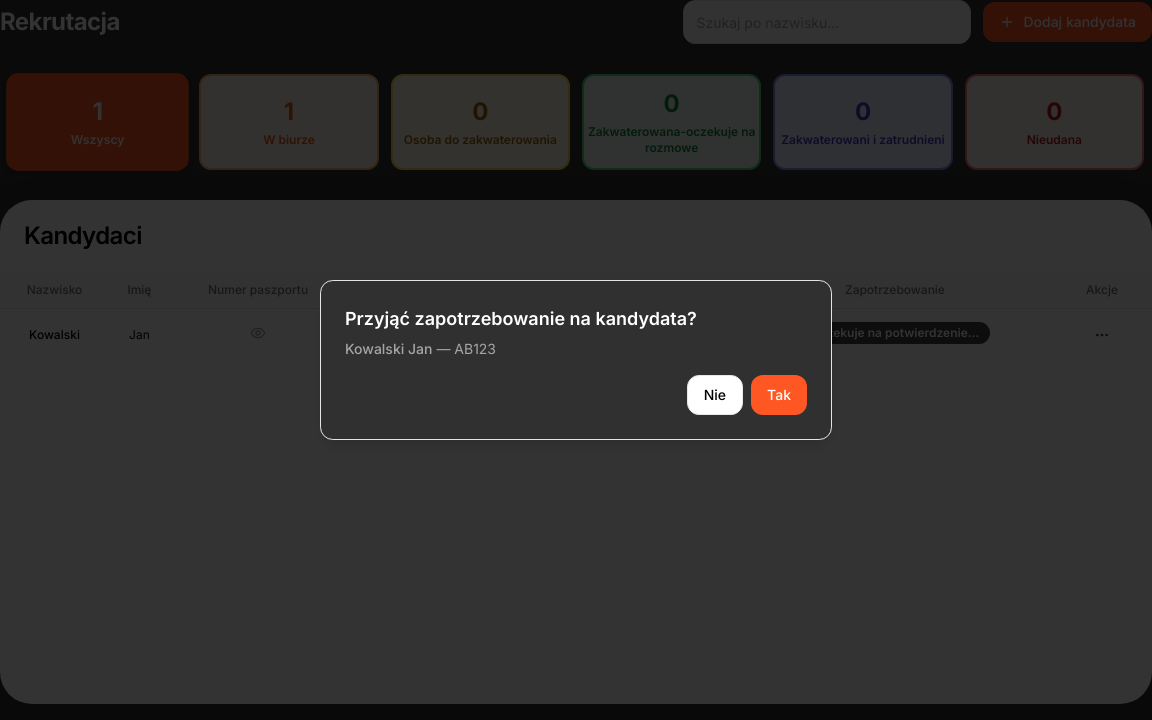
Test: RecruitmentView › "are you sure" -> No returns to confirmation dialog
This screenshot has width=1152, height=720.
Expected: the heading "Przyjąć zapotrzebowanie na kandydata?" is shown, [345, 308, 697, 329]
Click the button "Nie".
click(715, 395)  # box [687, 375, 743, 415]
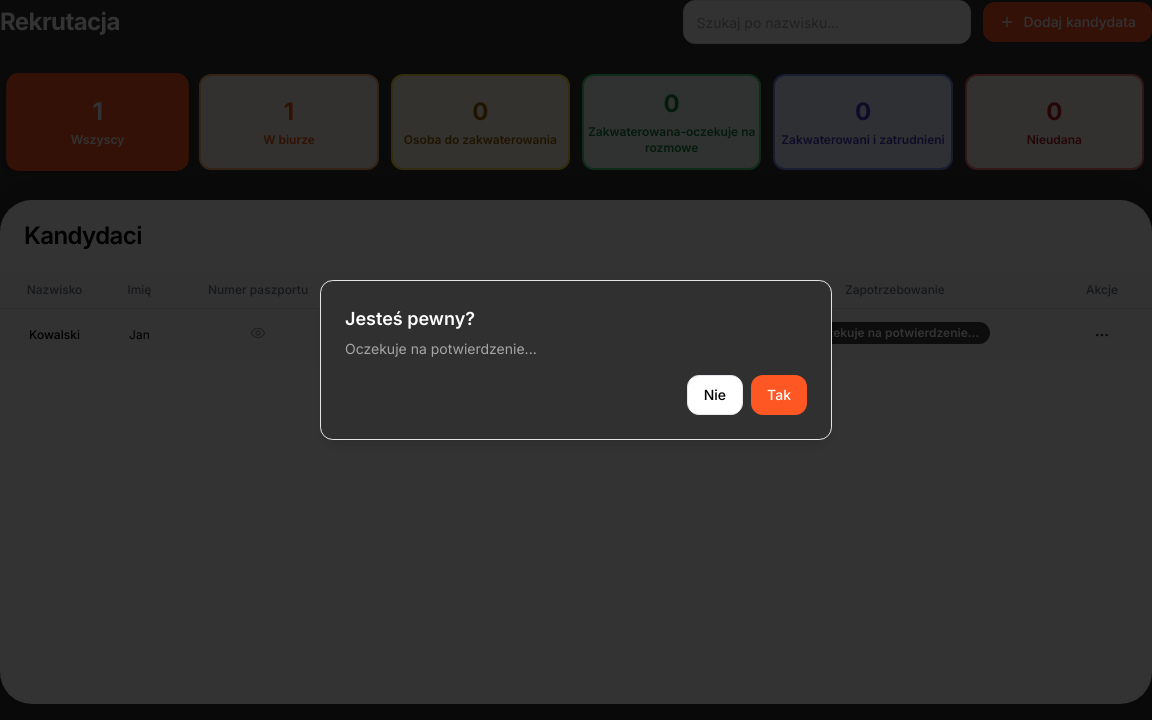
Now the heading "Jesteś pewny?" is shown, box [345, 308, 475, 329]
Click the button "Nie".
click(715, 395)  # box [687, 375, 743, 415]
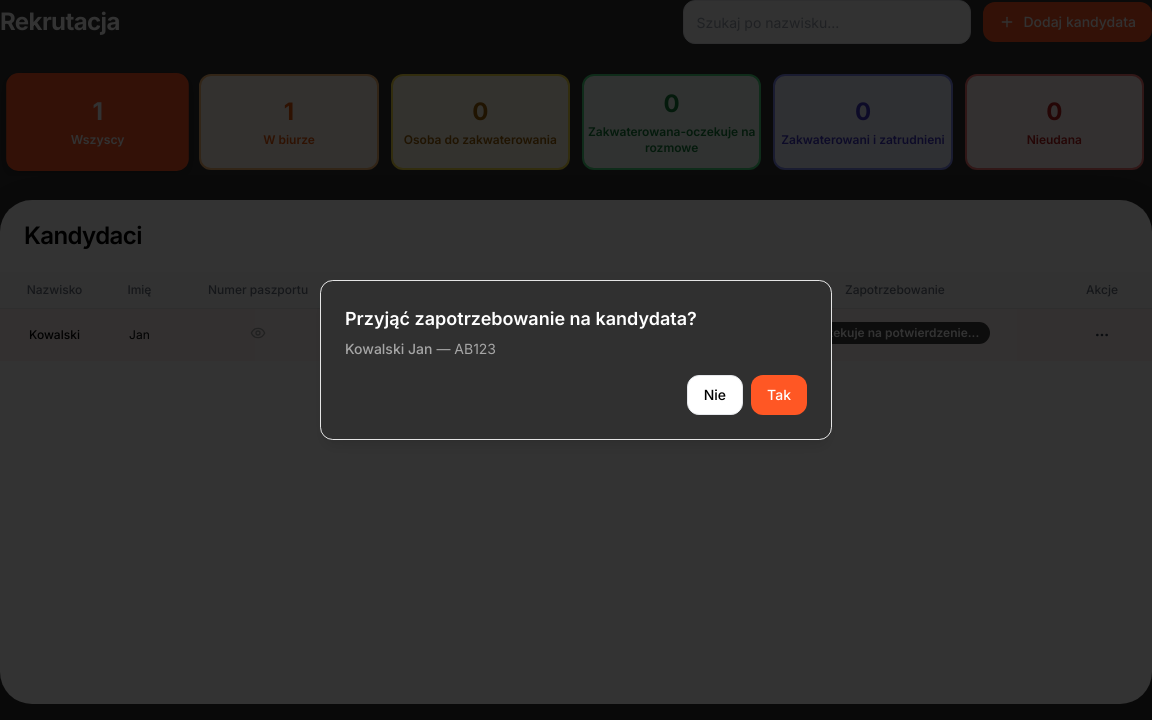
Now the heading "Przyjąć zapotrzebowanie na kandydata?" is shown, box [345, 308, 697, 329]
